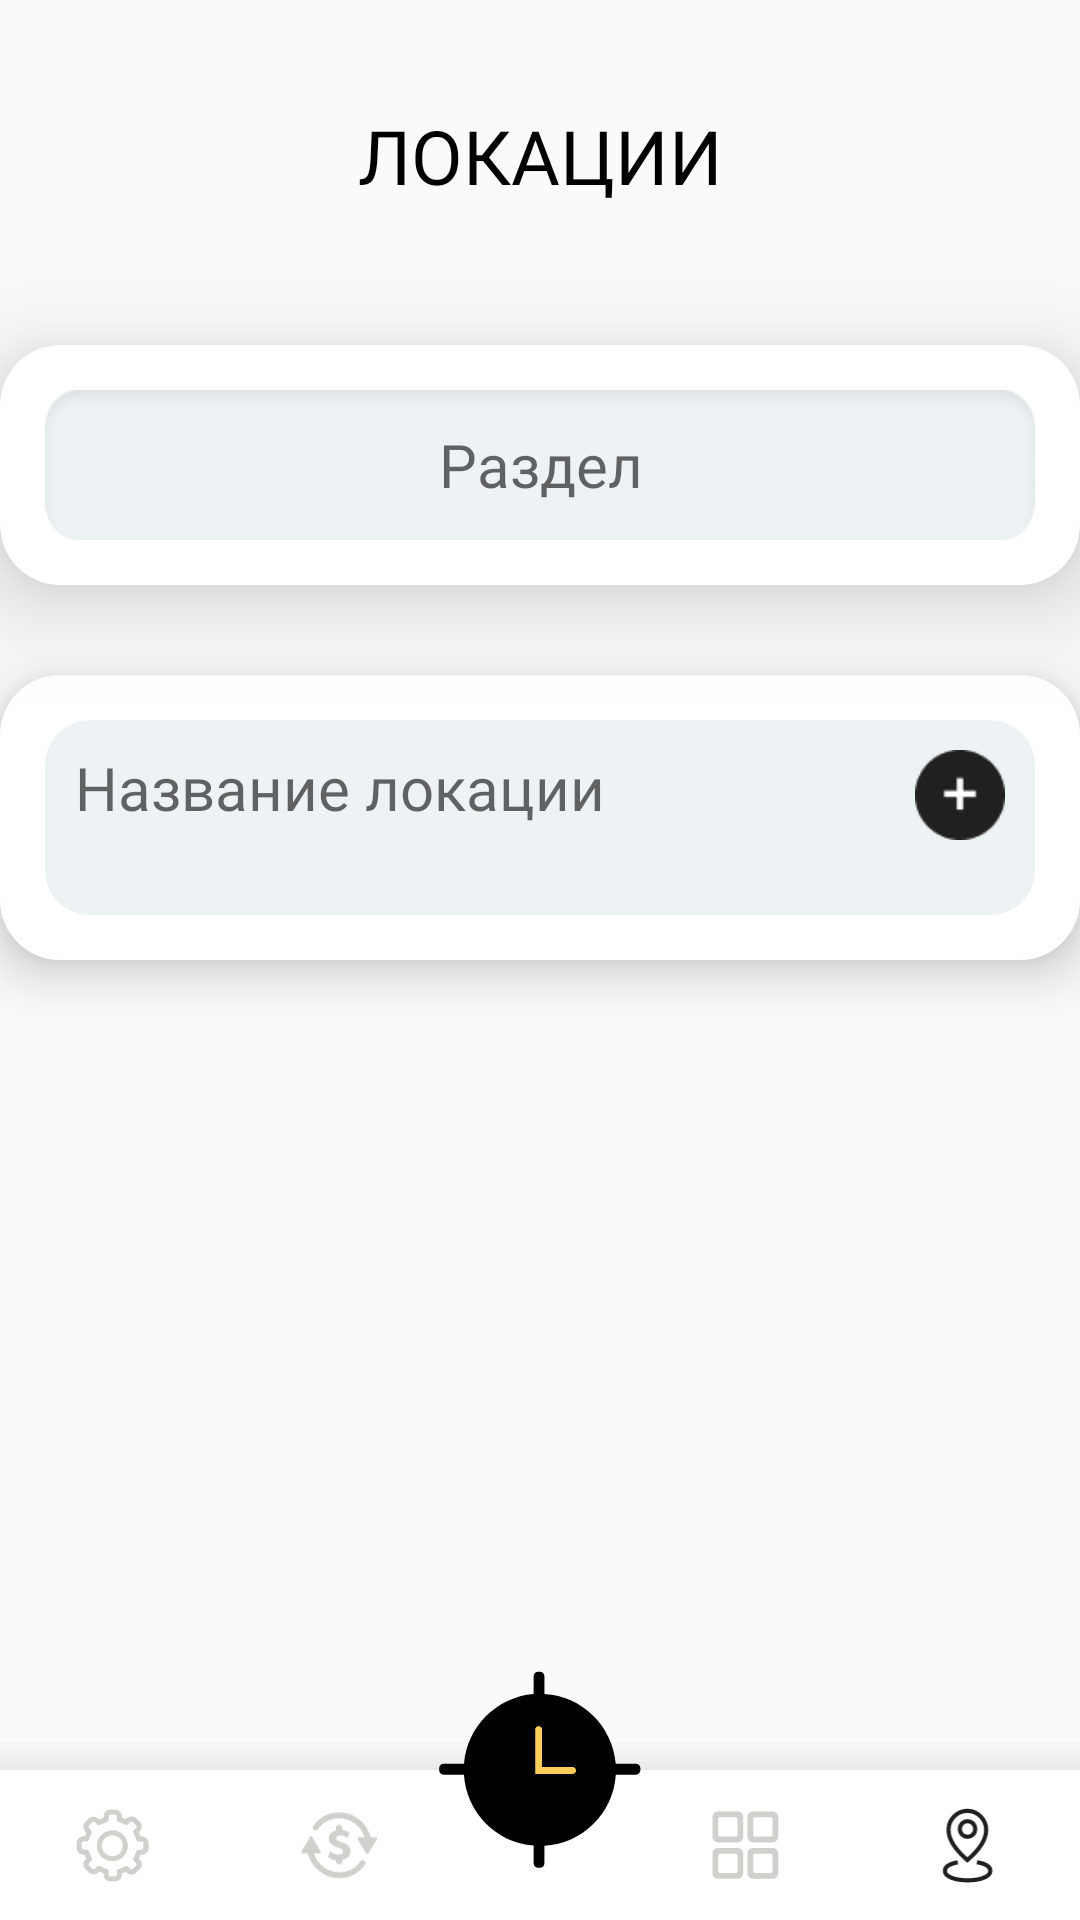

Named icons in this screenshot (1080 × 1920) and their centers, (x,y):
income: (339,1845)
location: (967,1845)
moodboard: (745,1845)
setting: (113,1845)
